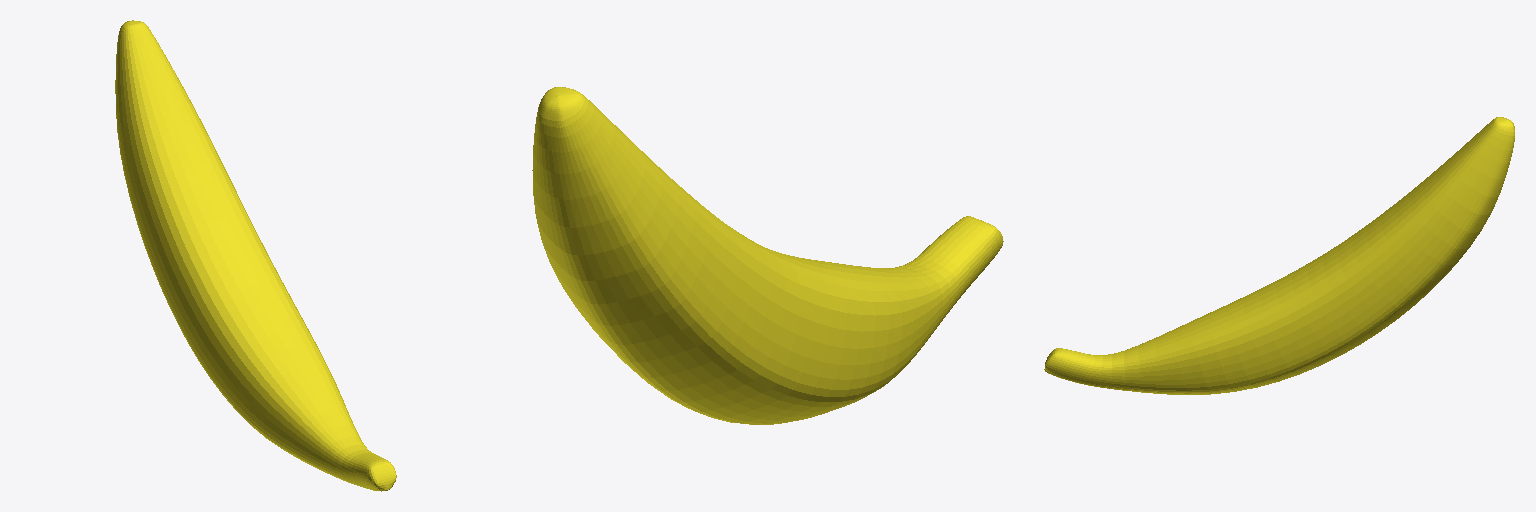
robot.urdf — banana:
<?xml version="1.0" encoding="utf-8"?>
<robot name="banana">
  <link name="base_link">
    <contact>
      <lateral_friction value="0.5"/>
      <rolling_friction value="0.0"/>
      <contact_cfm value="0.0"/>
      <contact_erp value="1.0"/>
    </contact>
    <inertial>
      <origin rpy="0 0 0" xyz="0 0 0"/>
      <mass value="5"/>
      <inertia ixx="0" ixy="0" ixz="0" iyy="0" iyz="0" izz="0"/>
    </inertial>
    <visual>
      <origin rpy="1.57 0 0" xyz="0 0 0"/>
      <geometry>
        <mesh filename="models/meshes/banana/10164_Banana_v01_it2.obj"  scale="0.002 0.002 0.002"/>
      </geometry>
      <material name="tray_material">
        <color rgba="0.93 0.882 0.208 1"/>
      </material>
    </visual>
    <collision>
      <origin rpy="1.57 0 0" xyz="0 0 0"/>
      <geometry>
        <mesh filename="models/meshes/banana/10164_Banana_v01_it2.obj" scale="0.002 0.002 0.002"/>
      </geometry>
    </collision>
  </link>
</robot>

--- What the picture shows (computed from the rendered views, not written in the file) ---
The picture shows the robot from 3 angles, left to right: view 1: azimuth 30°, elevation 25°; view 2: azimuth 150°, elevation 25°; view 3: azimuth 270°, elevation 25°; orthographic projection.
Model banana with 1 links and 0 joints (none), rooted at base_link, posed all joints at 0.
Visible links, largest first — view 1: base_link; view 2: base_link; view 3: base_link.
Link boxes in pixels (left/top/right/bottom): base_link: left=115, top=20, right=396, bottom=491; base_link: left=532, top=87, right=1003, bottom=424; base_link: left=1044, top=117, right=1514, bottom=394.
Size in the robot's own frame: 0.0654 by 0.3301 by 0.2118 metres.
1 mesh visuals loaded from 1 distinct referenced files (1 OBJ).